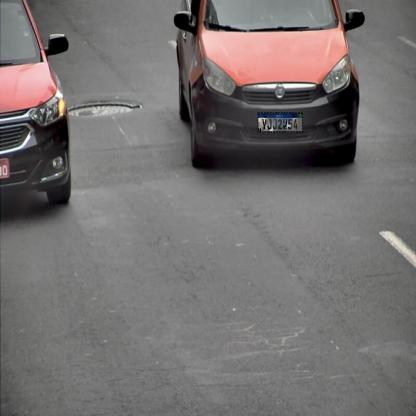PlacaM: (258, 112, 304, 132)
